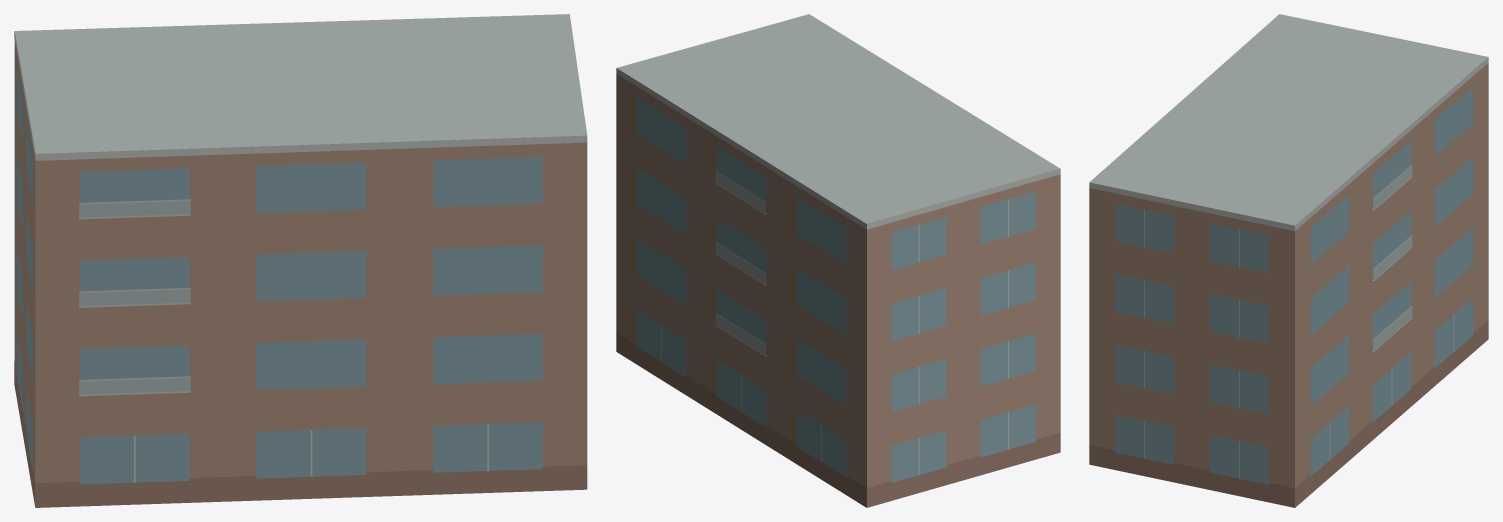
File: survey-upis-32885202.glb
3 renders of one model, left to right at view 1: azimuth 30°, elevation 25°; view 2: azimuth 150°, elevation 25°; view 3: azimuth 270°, elevation 25°, orthographic. The views are drawn at different scales.
Visible parts, largest first — view 1: survey-upis-32885202.tmp; view 2: survey-upis-32885202.tmp; view 3: survey-upis-32885202.tmp.
Boxes of the visible parts, x1,y1,x2,y2 form: survey-upis-32885202.tmp: (14,14,587,507); survey-upis-32885202.tmp: (616,14,1060,507); survey-upis-32885202.tmp: (1089,14,1488,507).
Bounding box in the file's own units: 19.96 × 12.4 × 15.91.
